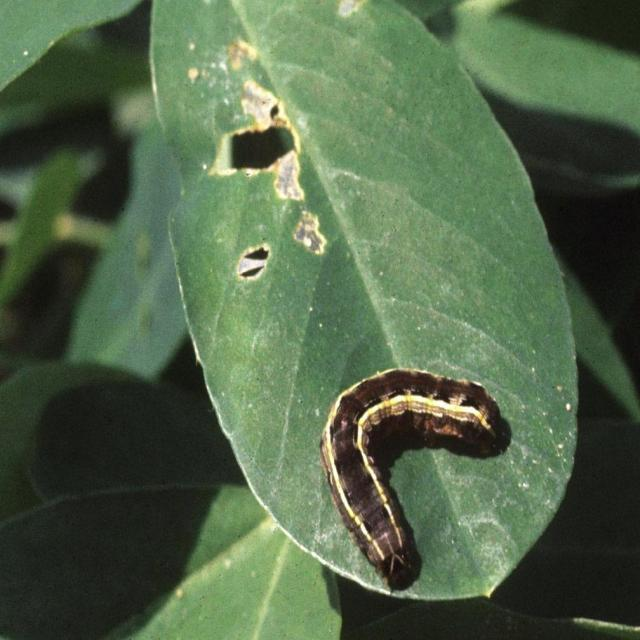army worm: (318, 369, 509, 585)
